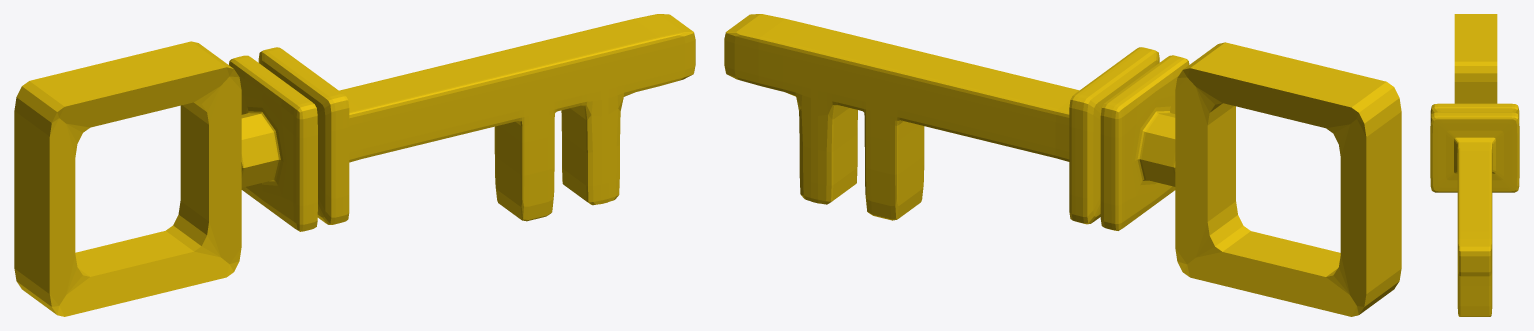
Rendered from Key.fbx.
3 views of the same model, side by side, from view 1: azimuth 30°, elevation 25°; view 2: azimuth 150°, elevation 25°; view 3: azimuth 270°, elevation 25° (orthographic). The views are drawn at different scales.
Parts seen in each view (by area): view 1: Cube.004; view 2: Cube.004; view 3: Cube.004.
Boxes of the visible parts, x1,y1,x2,y2 form: Cube.004: (14, 14, 695, 316); Cube.004: (724, 14, 1401, 316); Cube.004: (1430, 14, 1519, 316).
Bounding box in the file's own units: 491 × 167 × 96.45.
